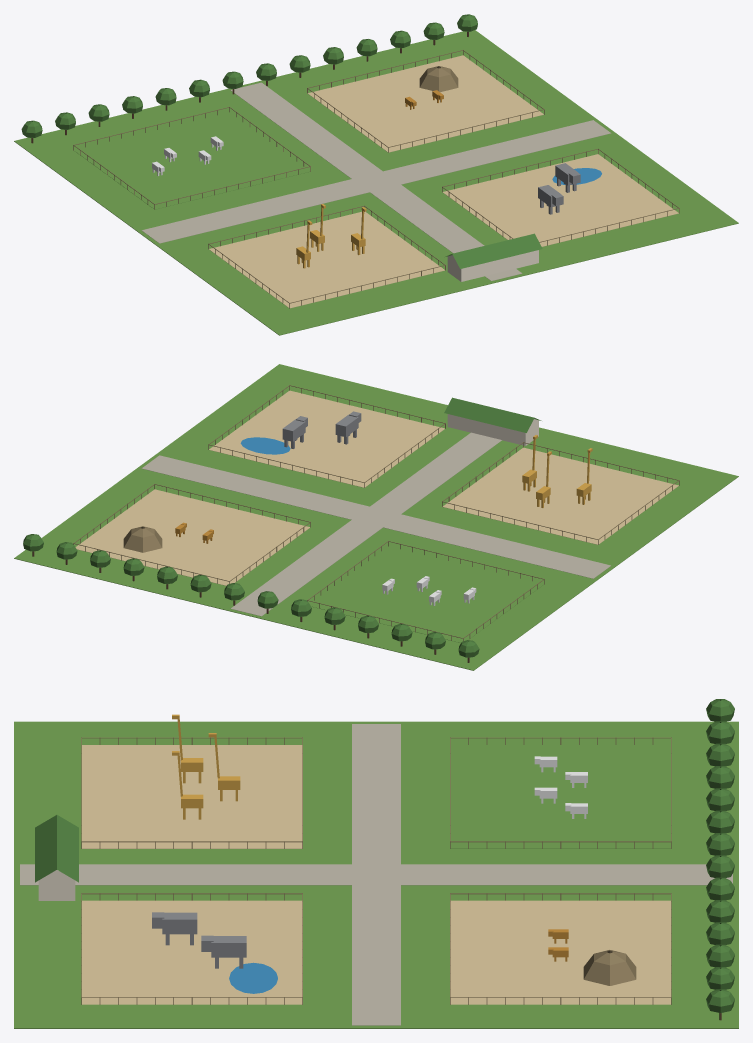
File: zoo.glb
3 views of the same model, one above another, from view 1: azimuth 30°, elevation 25°; view 2: azimuth 150°, elevation 25°; view 3: azimuth 270°, elevation 25° (orthographic). The views are drawn at different scales.
Parts seen in each view (by area): view 1: Zoo_static; view 2: Zoo_static; view 3: Zoo_static.
Part boxes in pixels (left/top/right/bottom): Zoo_static: left=14, top=14, right=738, bottom=335; Zoo_static: left=14, top=364, right=738, bottom=670; Zoo_static: left=14, top=699, right=738, bottom=1028.
Bounding box in the file's own units: 118 × 11.98 × 118.
